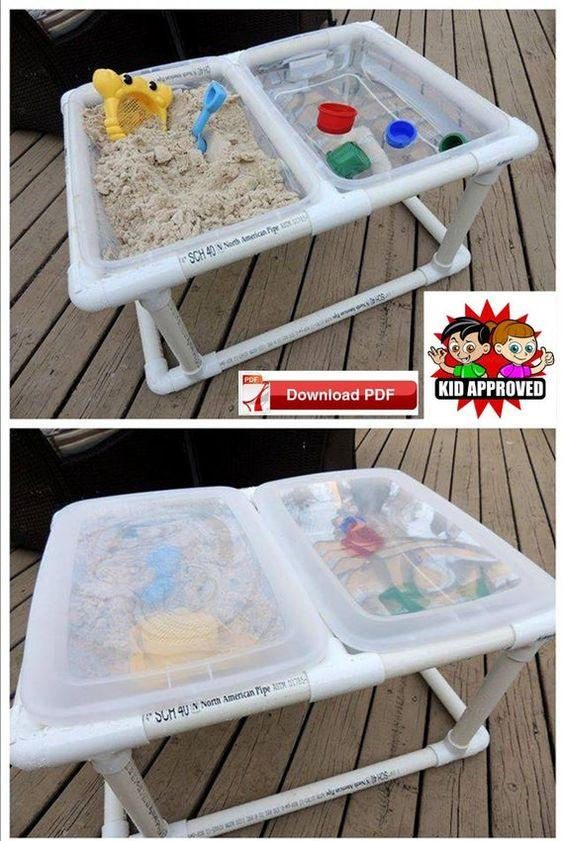PVC: (28, 681, 356, 736), (183, 756, 440, 826), (408, 46, 533, 153), (123, 216, 321, 281), (61, 96, 100, 325), (381, 618, 564, 666), (238, 76, 310, 188), (223, 16, 396, 56), (96, 743, 165, 838), (456, 675, 506, 756)
